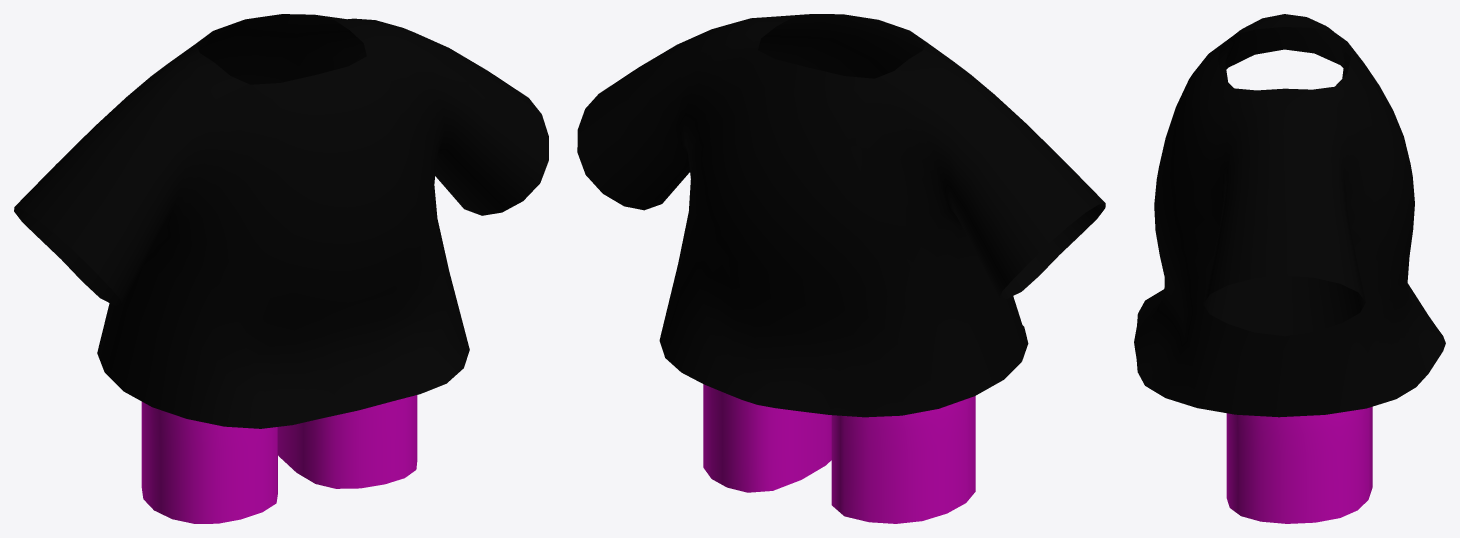
The model's file is horangibaseclothes.fbx.
3 renders of one model, left to right at view 1: azimuth 30°, elevation 25°; view 2: azimuth 150°, elevation 25°; view 3: azimuth 270°, elevation 25°, orthographic. The views are drawn at different scales.
Parts seen in each view (by area): view 1: CAMISA, PANTALON; view 2: CAMISA, PANTALON; view 3: CAMISA, PANTALON.
Boxes of the visible parts, <box> form: CAMISA: <box>14,14,548,428</box>; PANTALON: <box>141,395,417,523</box>; CAMISA: <box>577,14,1105,417</box>; PANTALON: <box>703,384,975,523</box>; CAMISA: <box>1134,14,1445,417</box>; PANTALON: <box>1226,406,1372,523</box>.
Size of the model in its own units: 254 by 215 by 148.
